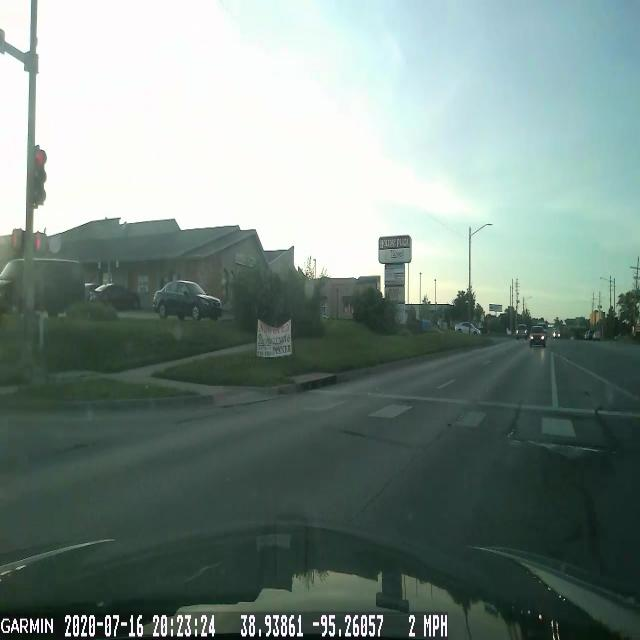Pothole: (507, 438, 615, 467)
